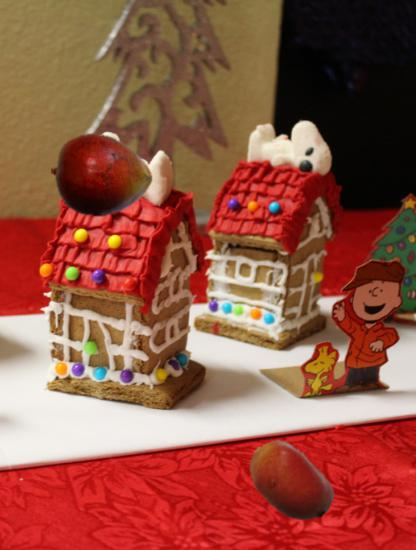Mango: (50, 123, 154, 227)
Nectarine: (243, 435, 338, 530)
